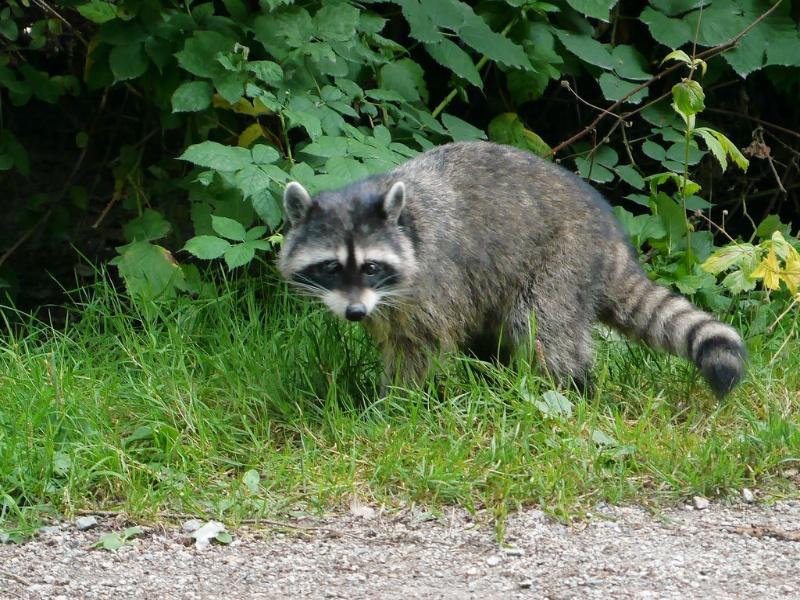raccoon: (265, 132, 754, 421)
